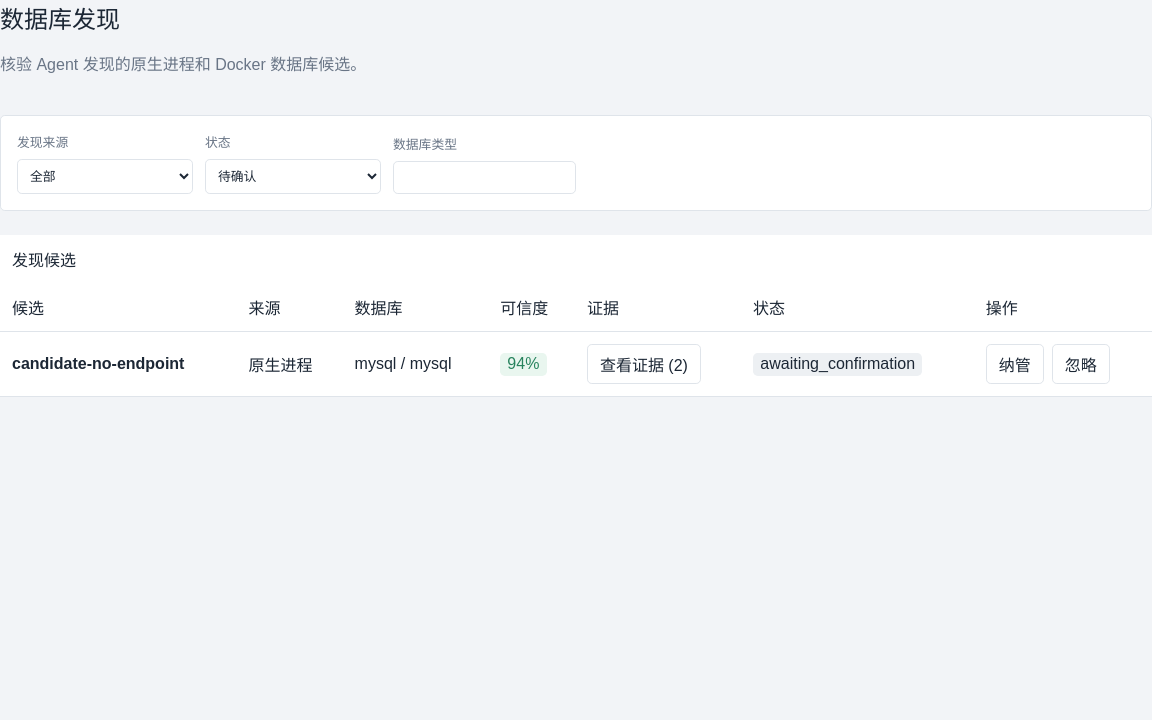
Discovery candidate workflows › lets a candidate without a discovered endpoint proceed to endpoint entry
Click the button named "纳管 candidate-no-endpoint": {"x": 1015, "y": 364} [986,344,1044,384]
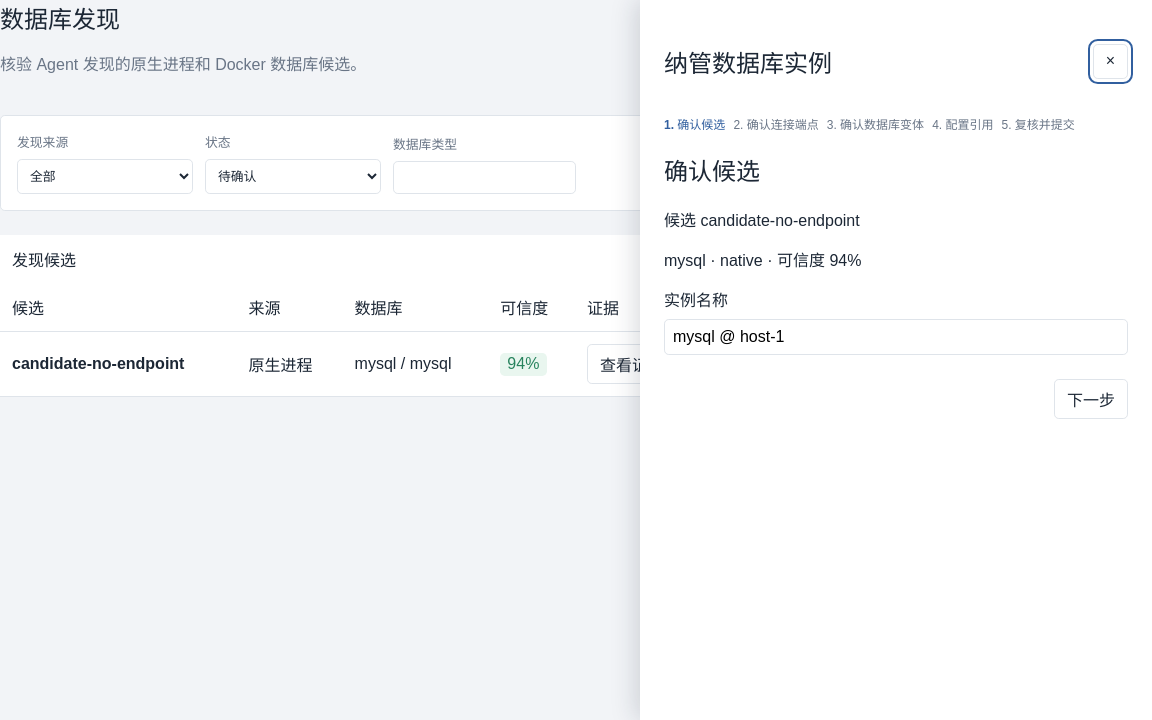
Expected: the button "下一步" is enabled
Click the button "下一步": {"x": 1091, "y": 399} [1054,379,1128,419]
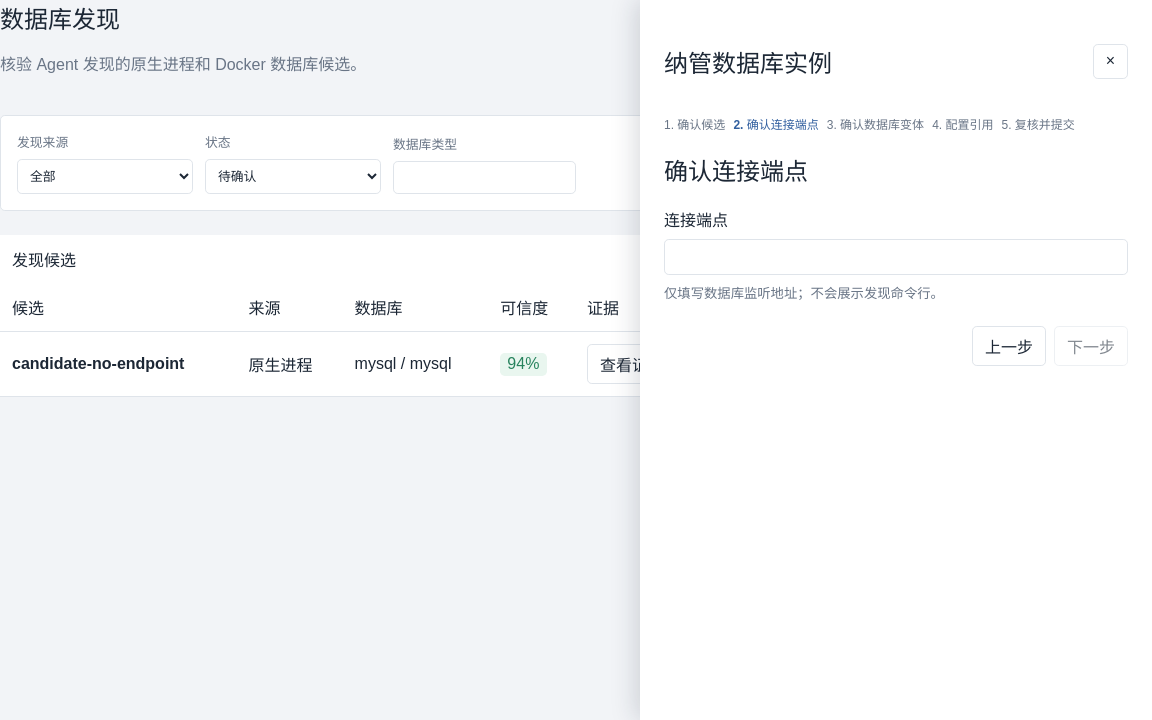
Expected: the heading "确认连接端点" is shown, [664,158,808,185]
